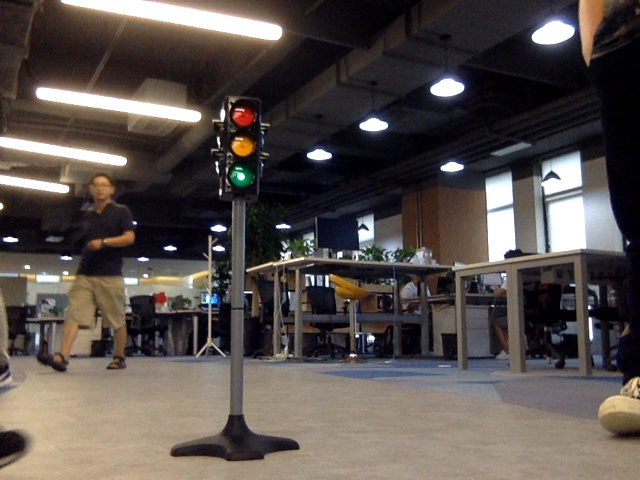green: (227, 102, 255, 191)
